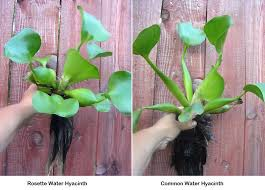water_hyacinth: (1, 3, 131, 170)
